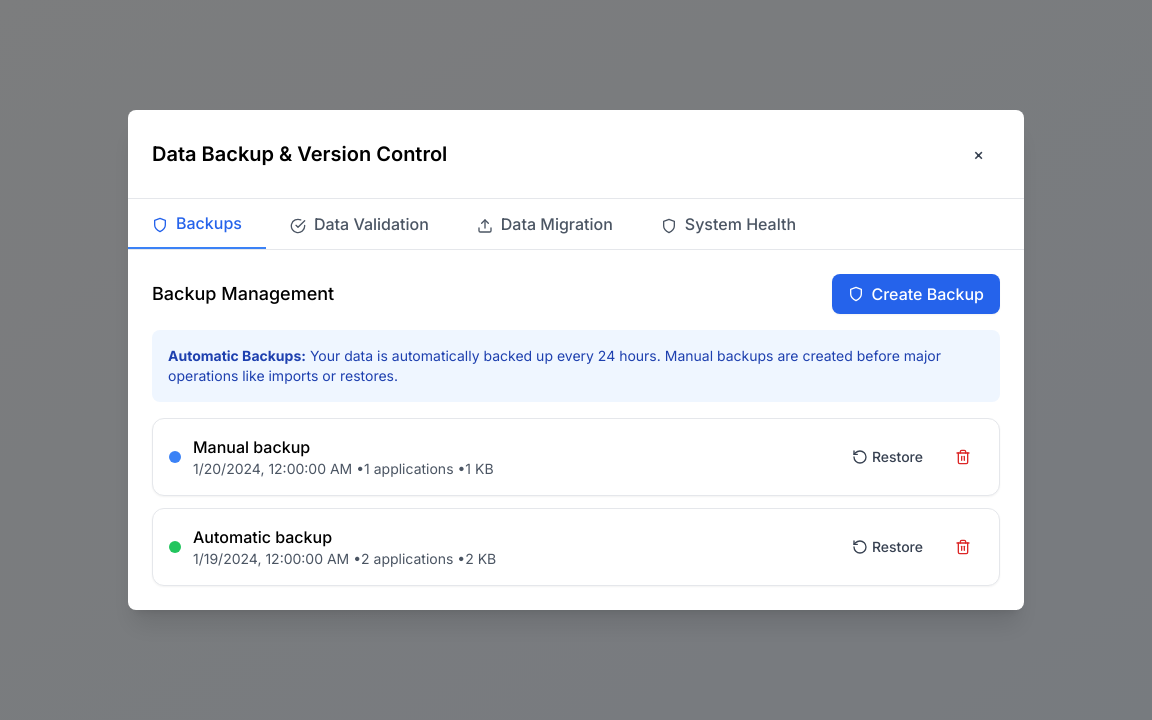
Scenario: BackupManager › Validation Tab › should validate data when button is clicked
Click the button "Data Validation" at x=359, y=224, box [266,199,453,249]
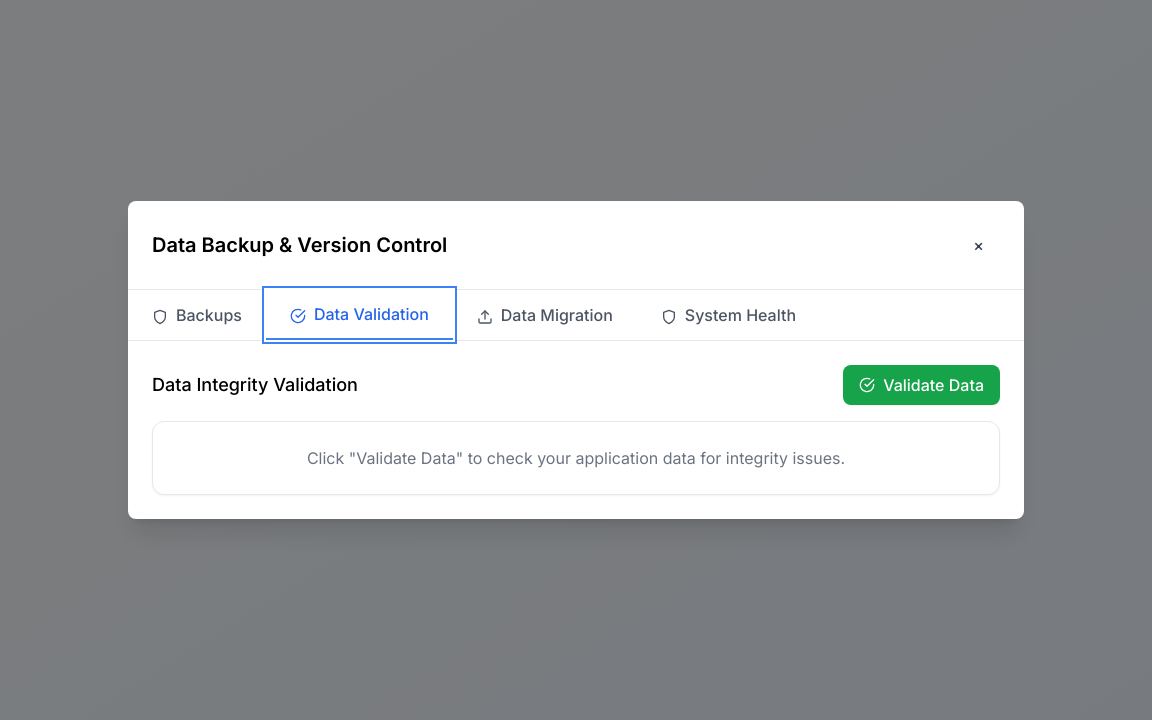
Click the button "Validate Data" at x=922, y=385, box [843,365,1000,405]
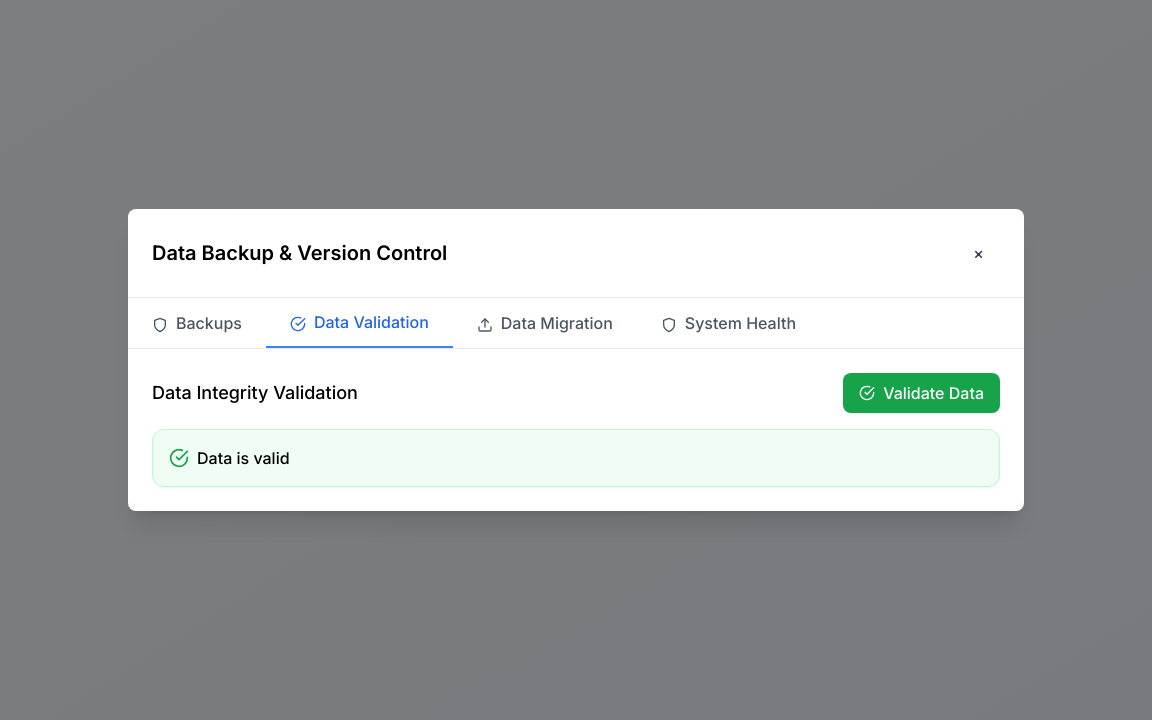
Now the heading "Data is valid" is shown, box [197,446,290,470]
